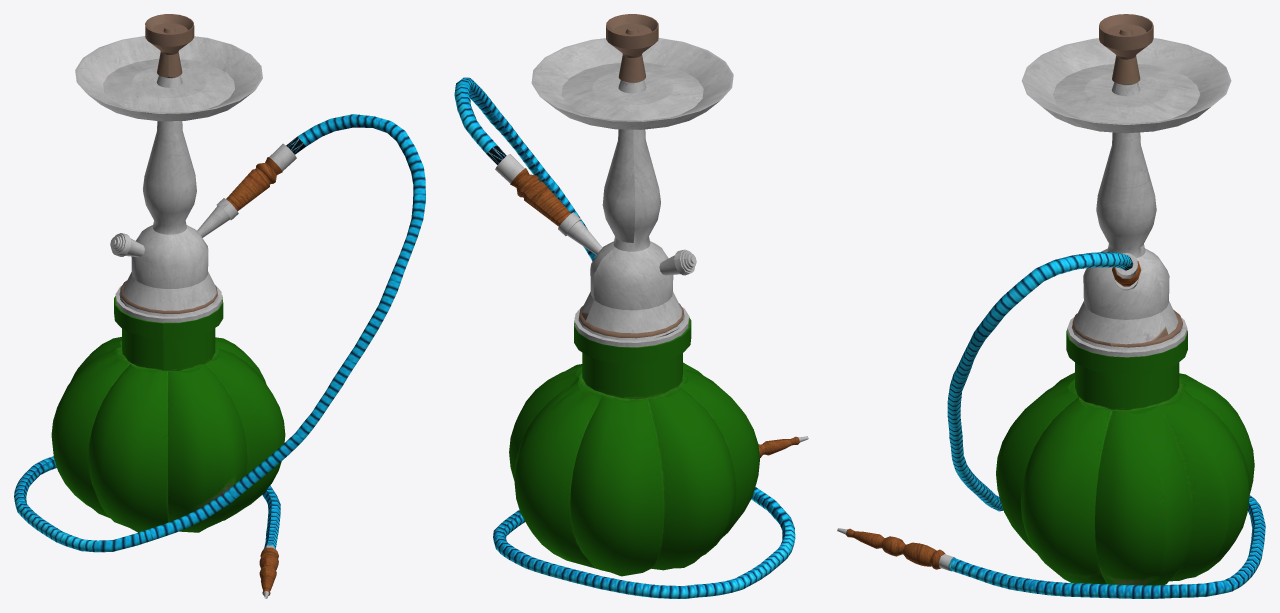
File: Hooka.fbx
The picture shows the model from 3 angles, left to right: view 1: azimuth 30°, elevation 25°; view 2: azimuth 150°, elevation 25°; view 3: azimuth 270°, elevation 25°; orthographic projection. The views are drawn at different scales.
Visible parts, largest first — view 1: Hooka; view 2: Hooka; view 3: Hooka.
Part boxes in pixels (box(x1,y1,x2,y2)): Hooka: box(14, 14, 425, 598); Hooka: box(454, 14, 808, 598); Hooka: box(837, 14, 1265, 598).
Bounding box in the file's own units: 192 × 267 × 193.
Materials: 1 (1 with a texture image).
